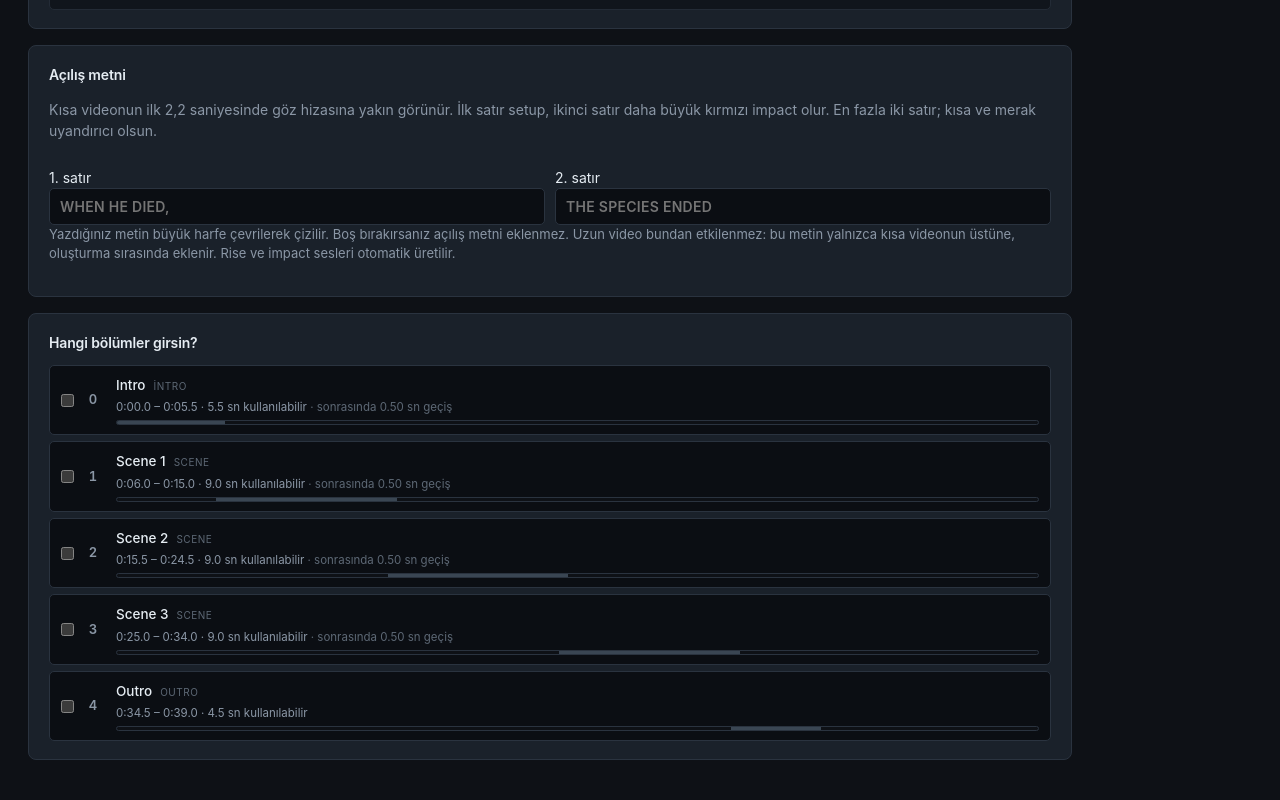
Test case: ShortsPage › totals the selection and reports a single preserved-transition cut
The image size is (1280, 800).
(page scrolled)
What coordinates should you click on to do the following:
click the checkbox named "2. bölümü ekle: Scene 2"
I would click on:
 (68, 553)
Its box is [61,546,74,560].
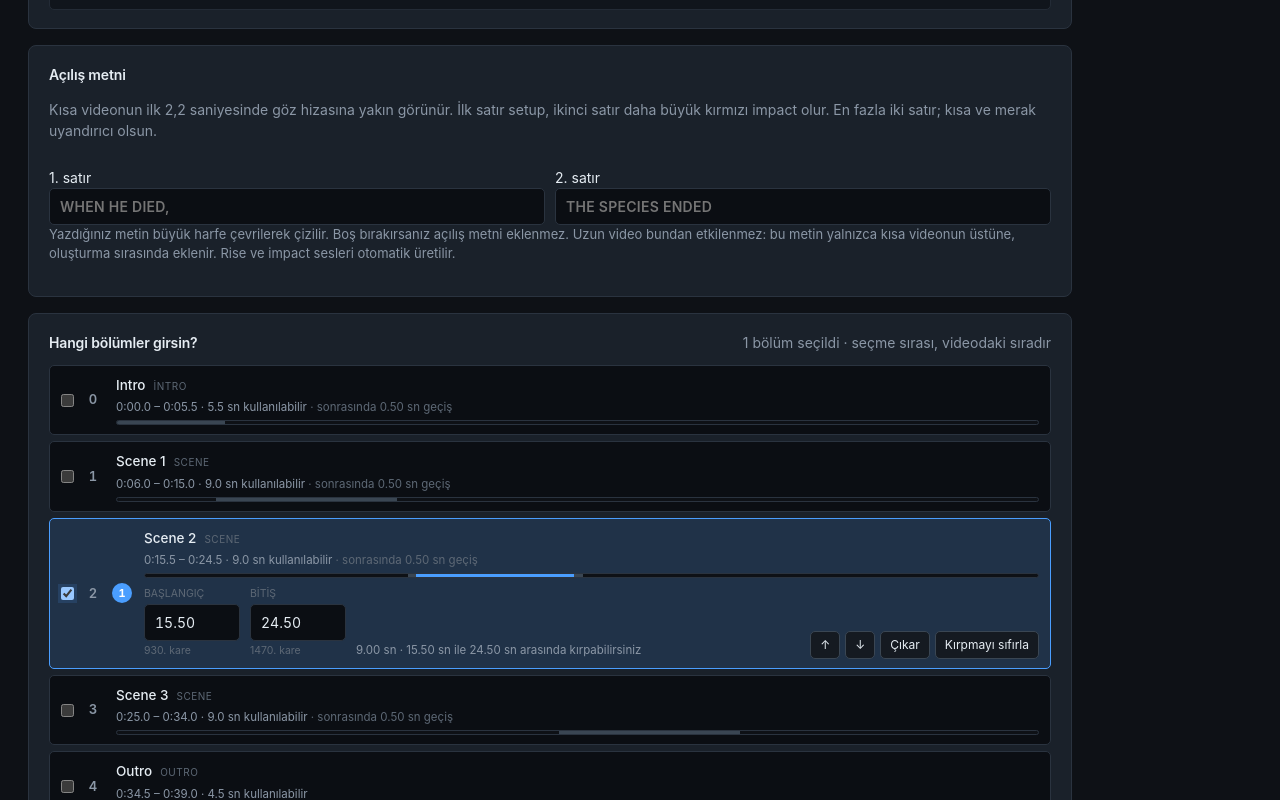
What coordinates should you click on to do the following:
click the checkbox named "3. bölümü ekle: Scene 3"
I would click on:
 (68, 710)
Its box is [61,704,74,716].
(page scrolled)
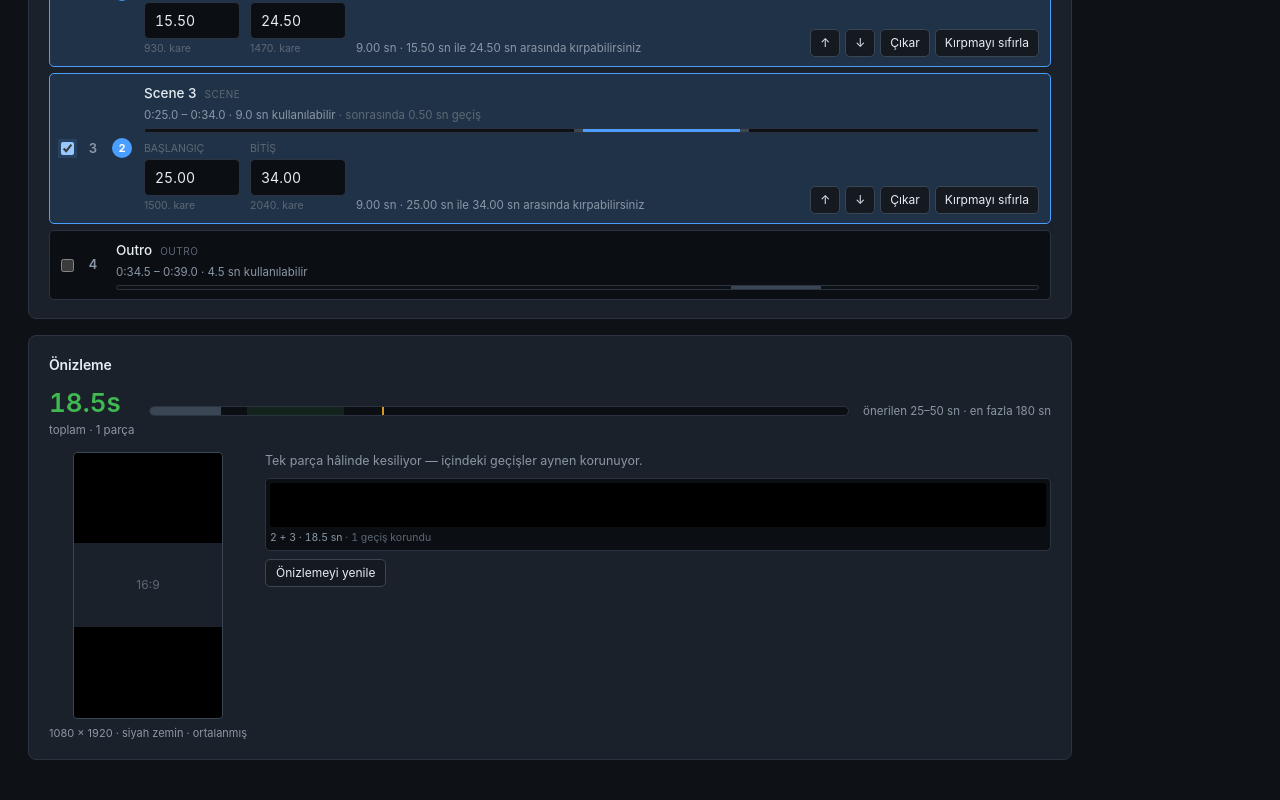
Expected: the text "toplam · 1 parça" is shown, [49,422,134,440]
Expected: the text "Tek parça hâlinde kesiliyor" is shown, [265,452,643,468]
Expected: the text "18.5s" is shown, [49,387,121,418]
